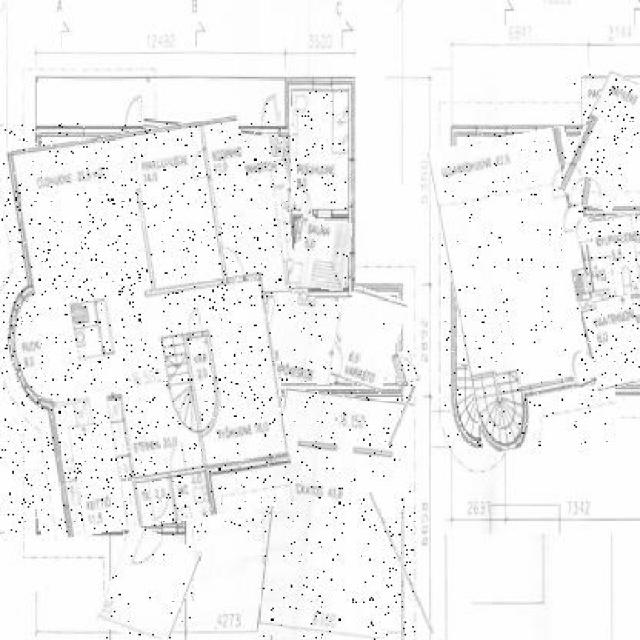door: (0, 123, 282, 532), (442, 133, 608, 450), (263, 391, 406, 640), (101, 529, 194, 640), (567, 73, 640, 209), (230, 136, 292, 292), (292, 88, 348, 209), (334, 289, 401, 388), (264, 295, 338, 383), (583, 294, 640, 388), (584, 213, 640, 295), (292, 218, 351, 290)
window: (117, 472, 149, 518), (570, 177, 604, 208), (122, 530, 146, 572), (568, 350, 594, 388), (394, 350, 418, 388), (214, 158, 237, 194), (334, 354, 354, 388), (231, 262, 251, 292), (272, 162, 294, 188), (262, 95, 280, 126), (126, 96, 142, 130), (574, 219, 592, 243), (148, 446, 163, 474), (300, 188, 315, 214), (188, 314, 200, 340)
zone: (386, 488, 420, 637), (143, 123, 260, 139), (394, 386, 409, 448)
